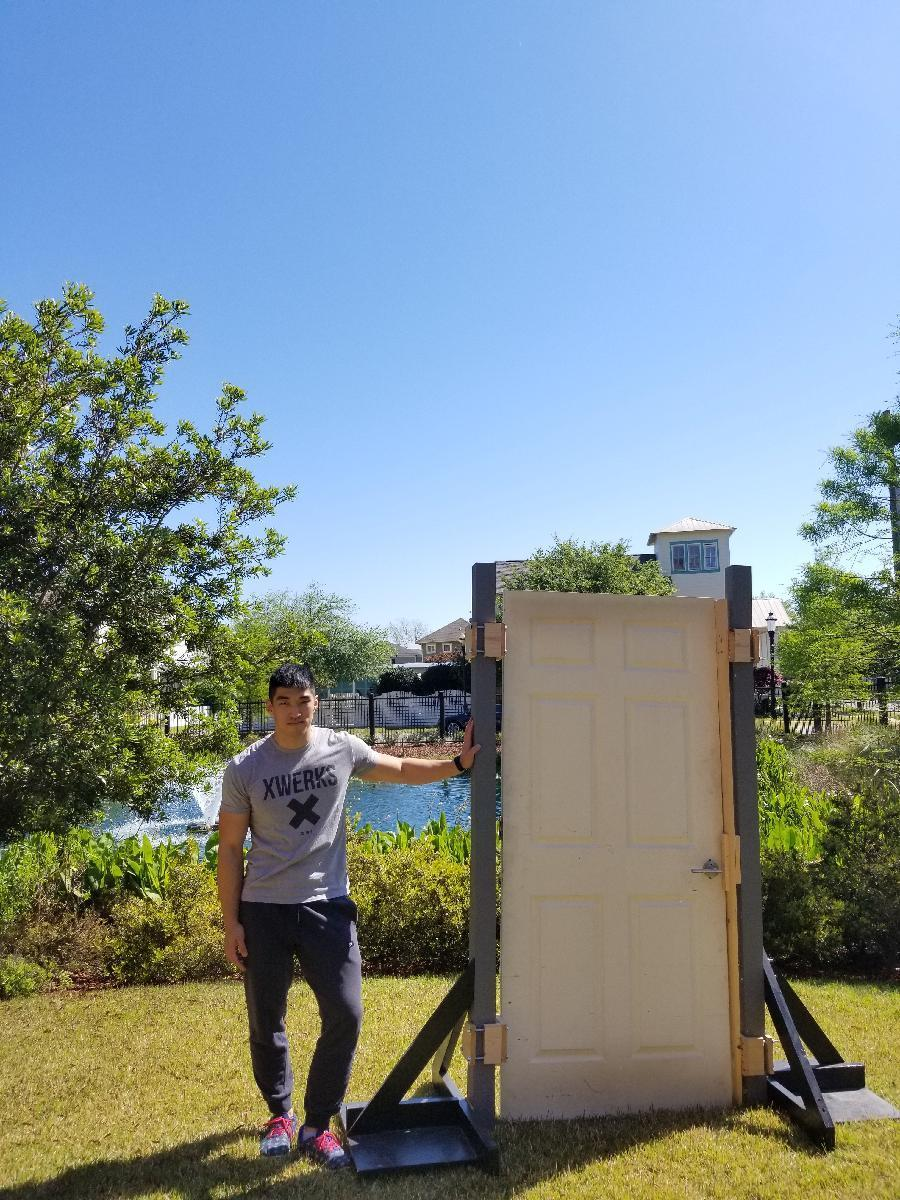door: (503, 586, 736, 1122)
handle: (686, 858, 725, 880)
